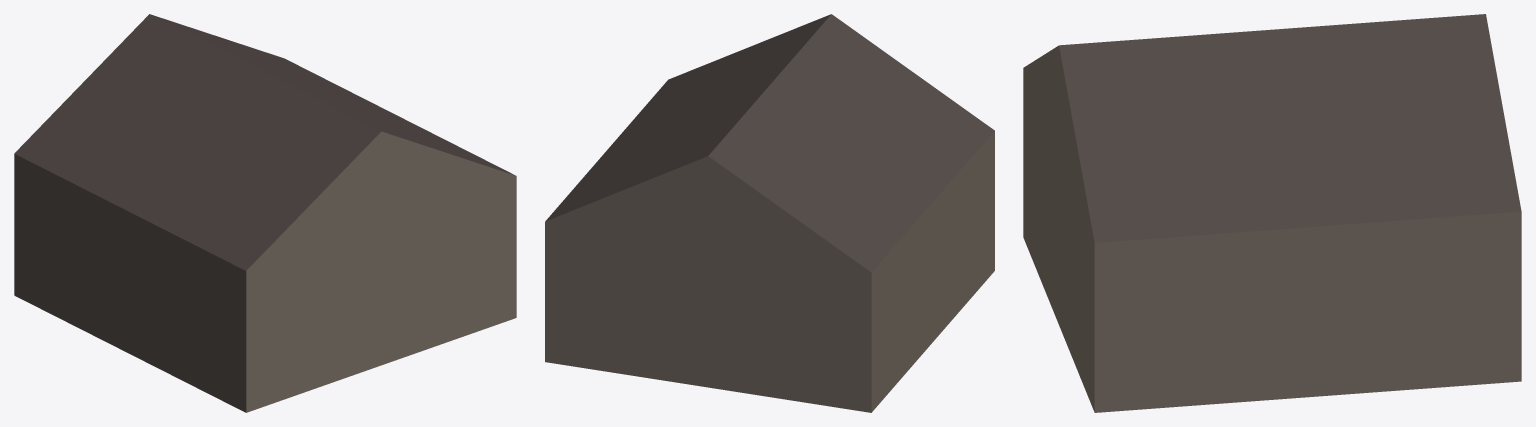
3 renders of one model, left to right at view 1: azimuth 30°, elevation 25°; view 2: azimuth 150°, elevation 25°; view 3: azimuth 270°, elevation 25°, orthographic. The views are drawn at different scales.
Visible parts, largest first — view 1: HP-w859447965; view 2: HP-w859447965; view 3: HP-w859447965.
Boxes of the visible parts, x1,y1,x2,y2 form: HP-w859447965: (14,14,516,412); HP-w859447965: (545,14,994,412); HP-w859447965: (1023,14,1521,412).
Bounding box in the file's own units: 15.66 × 9.89 × 15.95.
